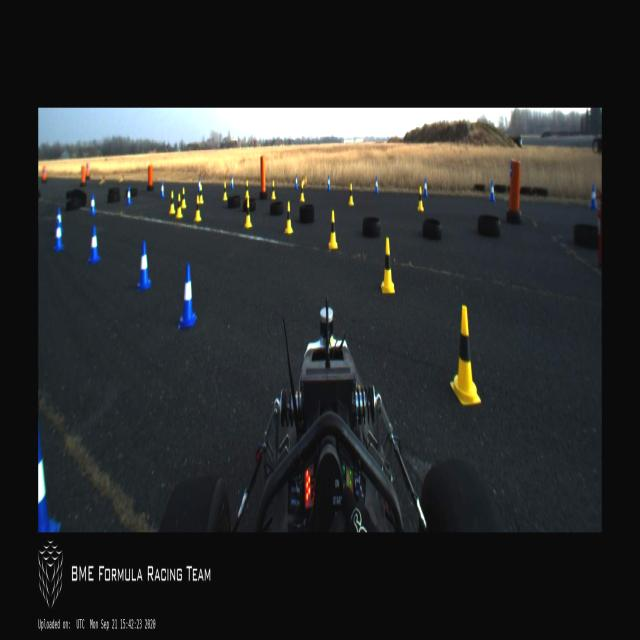blue_cone: (38, 416, 61, 532), (178, 264, 196, 330), (138, 242, 152, 292), (88, 227, 100, 264), (54, 220, 66, 254), (588, 182, 598, 212), (89, 192, 97, 216), (488, 180, 496, 203), (160, 180, 166, 198), (373, 176, 379, 193), (126, 187, 132, 204), (294, 174, 300, 190), (423, 178, 428, 196), (326, 175, 331, 191), (231, 176, 235, 190)
yellow_cone: (451, 306, 481, 403), (381, 236, 396, 292), (330, 210, 338, 248), (285, 202, 293, 232), (245, 197, 252, 228), (194, 197, 202, 221), (169, 190, 175, 214), (176, 195, 182, 219), (300, 180, 306, 202), (418, 186, 423, 212), (348, 182, 353, 206), (222, 184, 228, 202), (244, 180, 250, 198), (271, 179, 276, 199)
